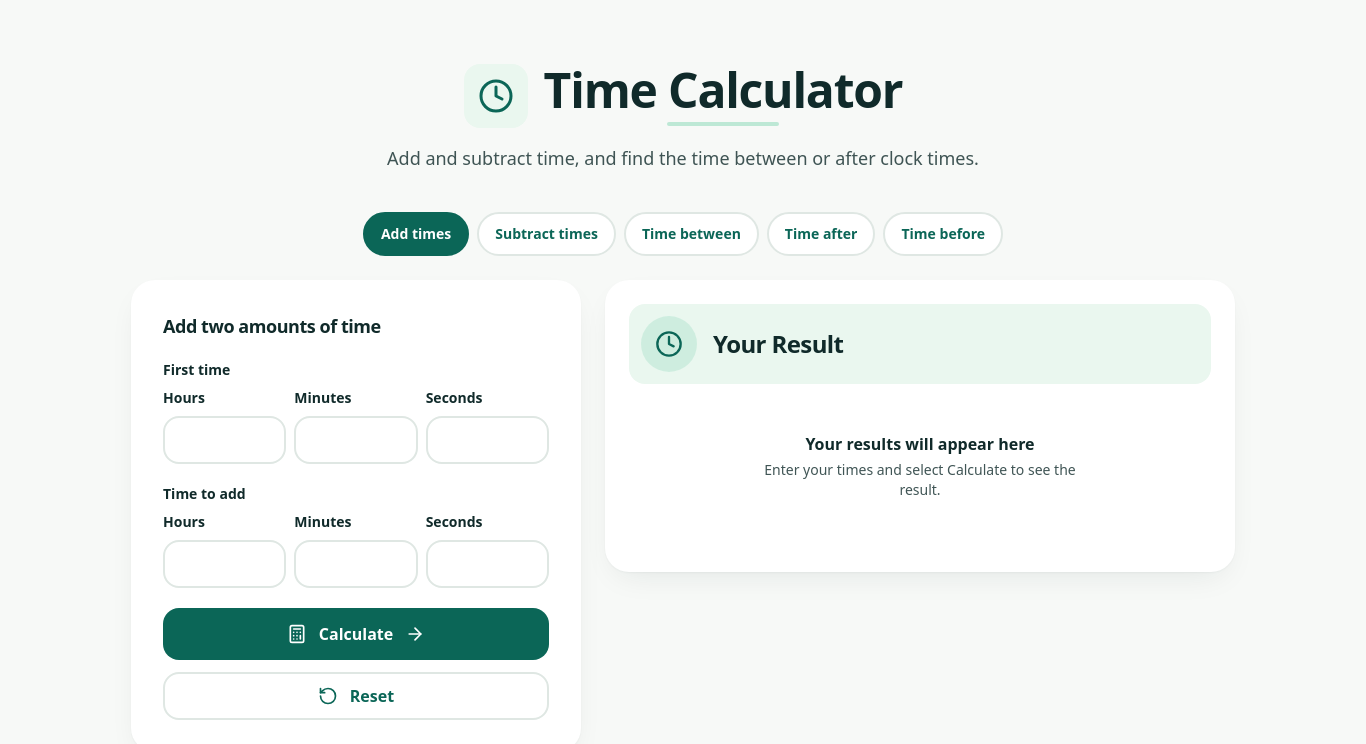
Scenario: Time Calculator › finds the time between clock times, explaining overnight
Click the button "Time between" at (691,234), box [624,212,759,256]
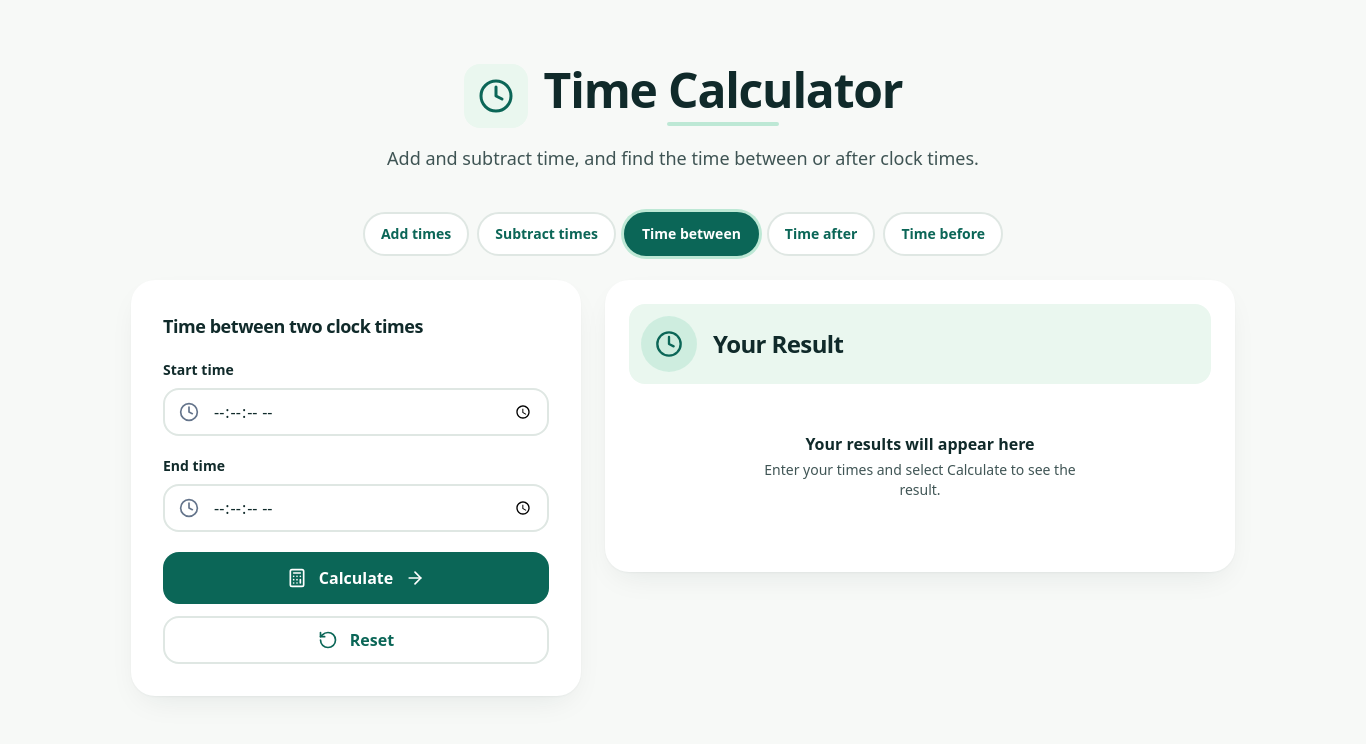
Type "22:00" into the time field labelled "Start time" at (356,412), box [163,388,549,436]
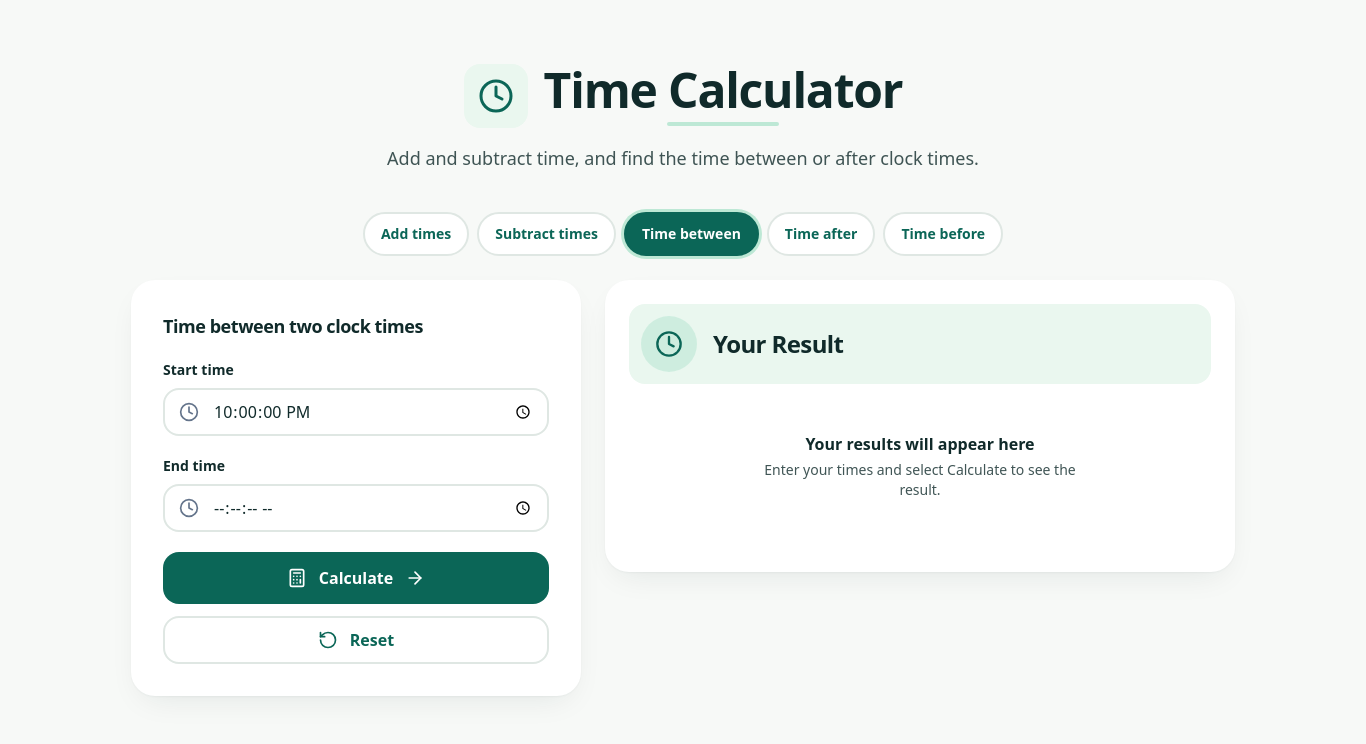
Type "06:00" into the time field labelled "End time" at (356,508), box [163,484,549,532]
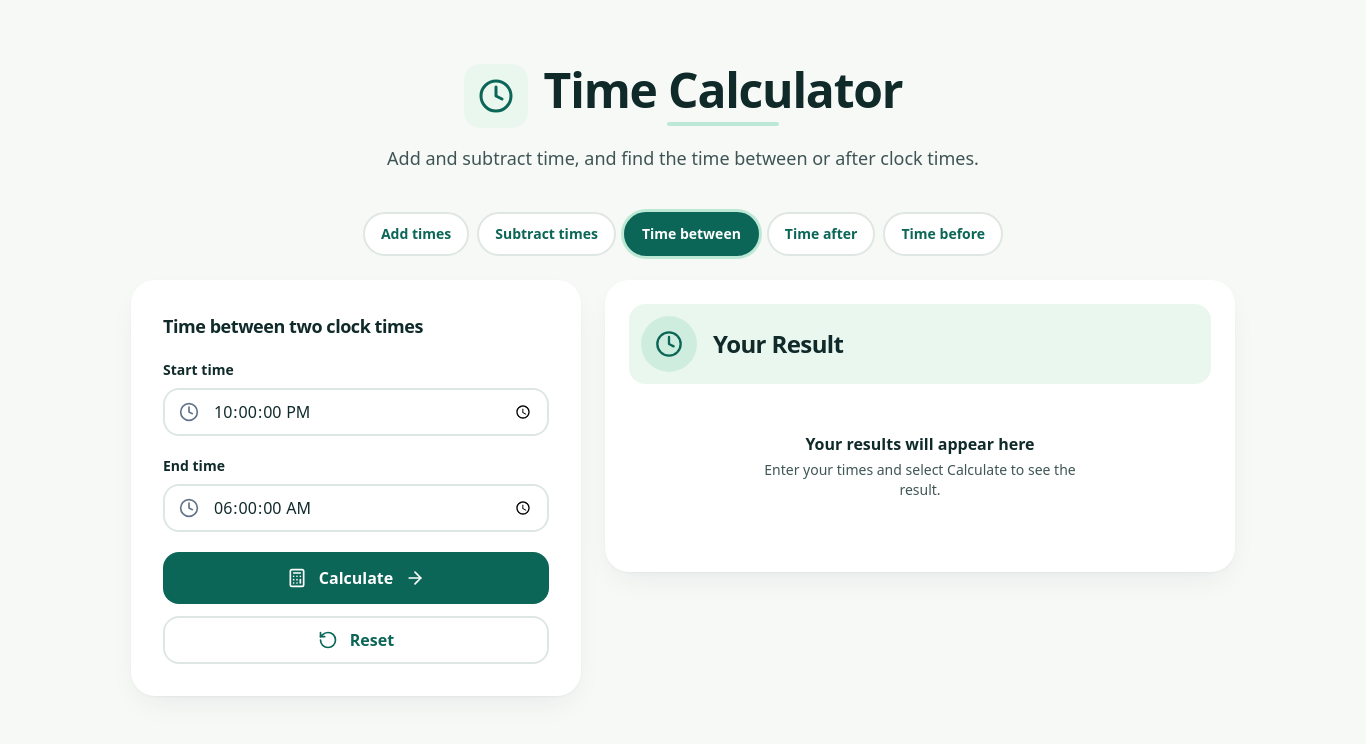
Click the button "Calculate" at (356,578), box [163,552,549,604]
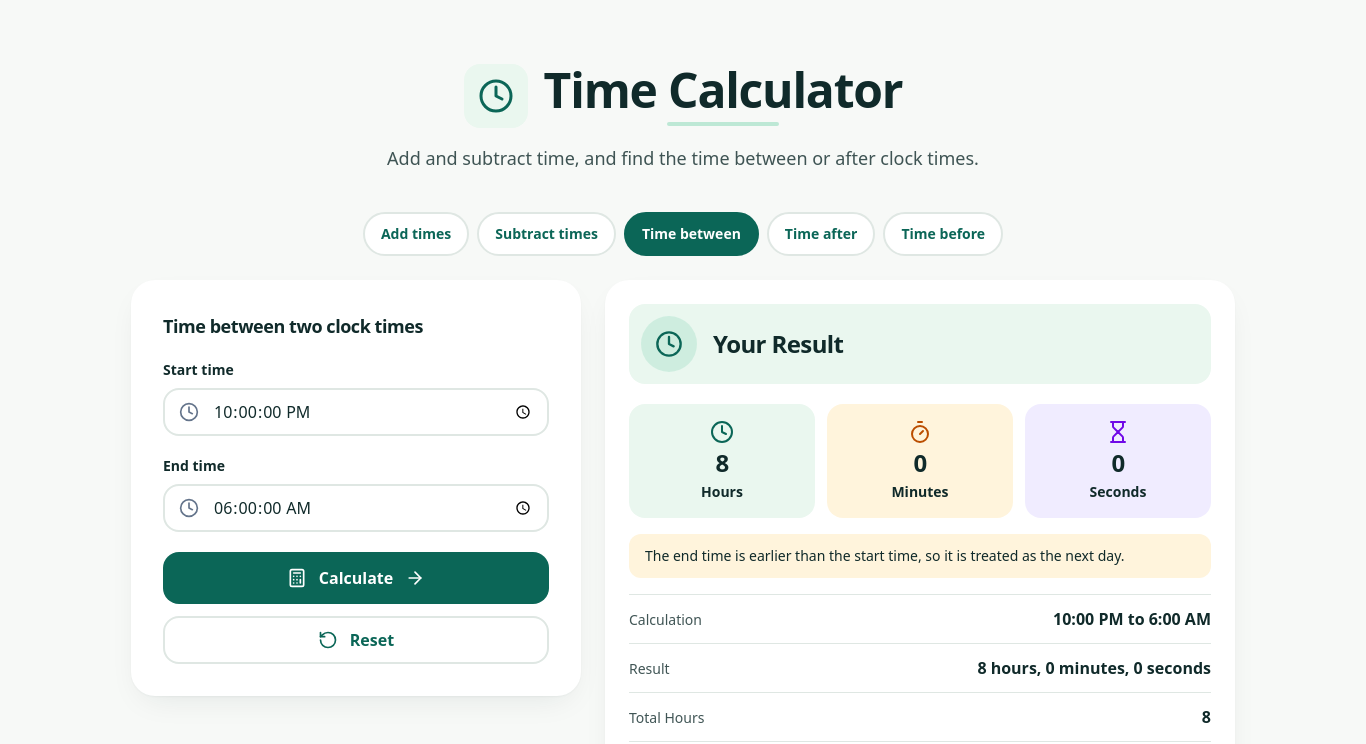
Expected: the text "The end time is earlier than the start time, so it is treated as the next day." is shown, [629,534,1211,578]
